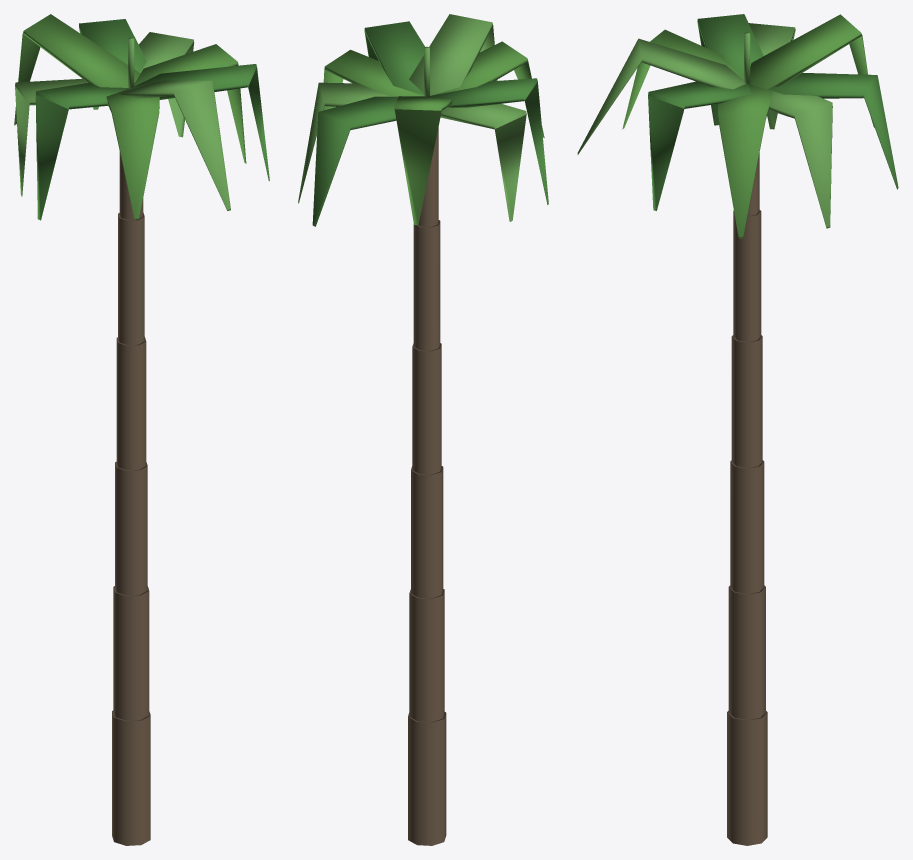
Rendered from palm_ornamental.glb.
3 views of the same model, side by side, from view 1: azimuth 30°, elevation 25°; view 2: azimuth 150°, elevation 25°; view 3: azimuth 270°, elevation 25° (orthographic).
Parts seen in each view (by area): view 1: palm_ornamental; view 2: palm_ornamental; view 3: palm_ornamental.
Part boxes in pixels (x1,y1,x2,y2): palm_ornamental: [14, 14, 269, 845]; palm_ornamental: [298, 14, 548, 845]; palm_ornamental: [577, 14, 898, 845].
Size of the model in its own units: 3.77 by 13.15 by 4.76.
